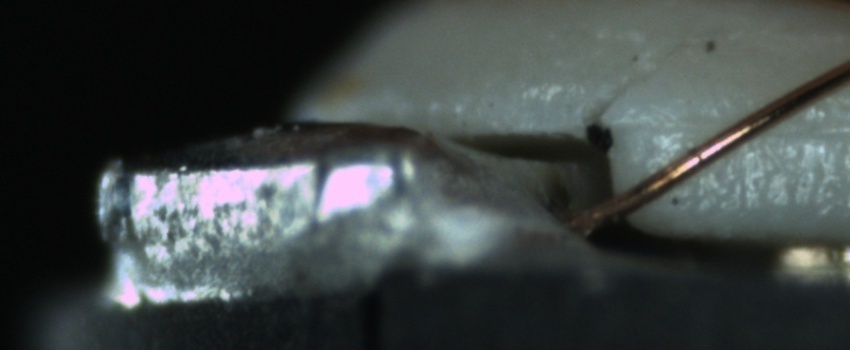DL: (636, 97, 849, 157)
